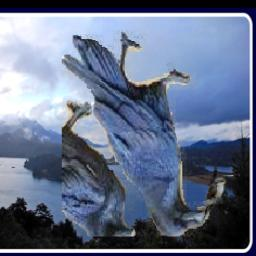Crow: (63, 31, 212, 237)
Cuckoo: (201, 177, 227, 222)
